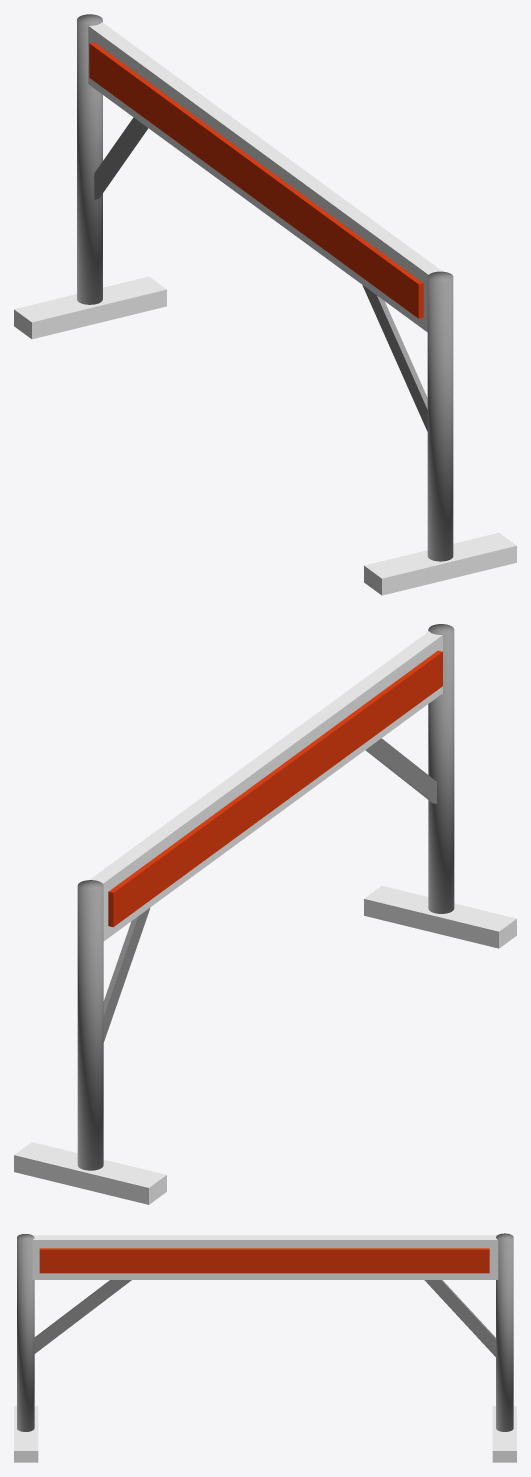
File: hurdle.fbx
3 renders of one model, top to bottom at view 1: azimuth 30°, elevation 25°; view 2: azimuth 150°, elevation 25°; view 3: azimuth 270°, elevation 25°, orthographic. The views are drawn at different scales.
Visible parts, largest first — view 1: Hurdle; view 2: Hurdle; view 3: Hurdle.
Boxes of the visible parts, bbox=[...] form: Hurdle: bbox=[14, 14, 516, 595]; Hurdle: bbox=[14, 624, 516, 1204]; Hurdle: bbox=[14, 1233, 516, 1462].
Size of the model in its own units: 45 by 94.49 by 213.
